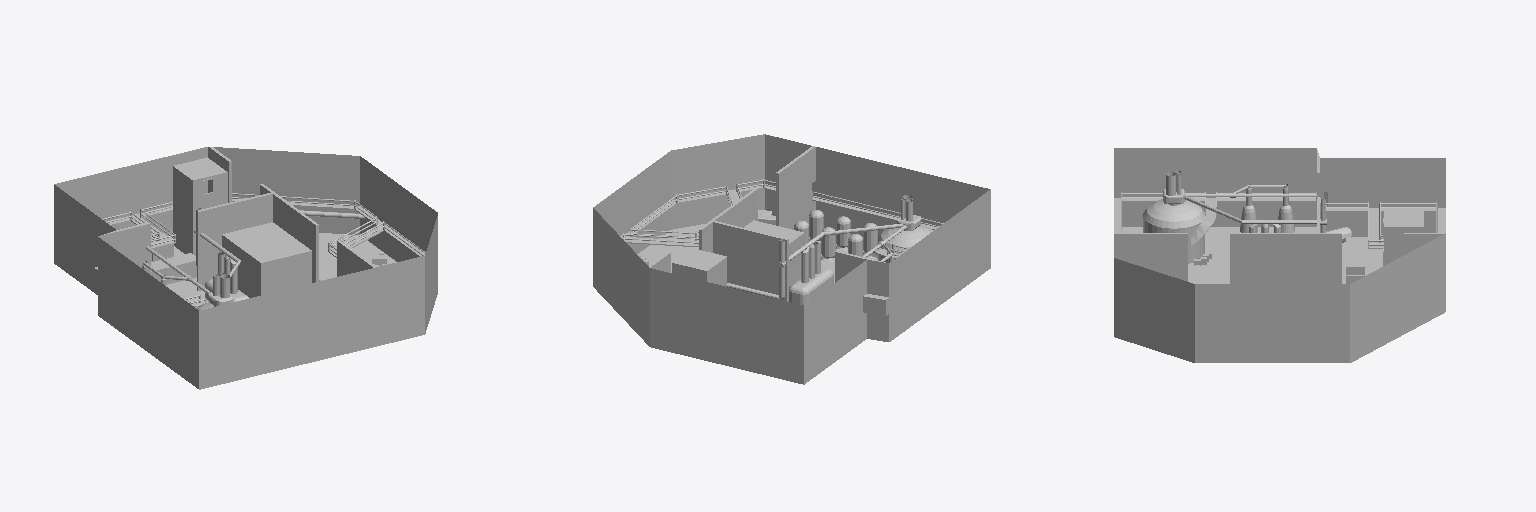
File: factory.obj
3 renders of one model, left to right at view 1: azimuth 30°, elevation 25°; view 2: azimuth 150°, elevation 25°; view 3: azimuth 270°, elevation 25°, orthographic.
Visible parts, largest first — view 1: factory_無標題.002; view 2: factory_無標題.002; view 3: factory_無標題.002.
Boxes of the visible parts, x1=… form: factory_無標題.002: x1=54, y1=147, x2=437, y2=389; factory_無標題.002: x1=593, y1=134, x2=990, y2=384; factory_無標題.002: x1=1114, y1=148, x2=1445, y2=362.
Size of the model in its own units: 61.73 by 16.96 by 63.49.